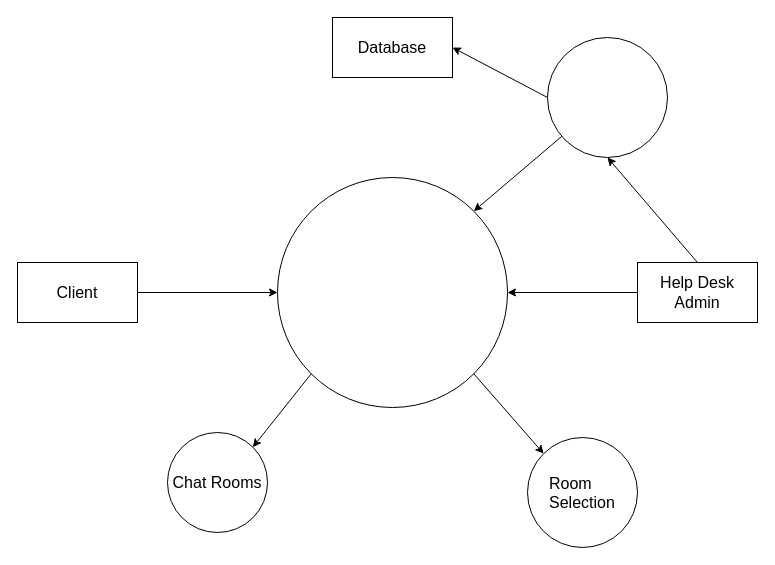
The diagram is 775 pixels wide and 565 high, and some of its shapes have lost their labels. The shapes that lost their labels are listed below. From the top down, each one's box as (x1, y1, x2, y2) in pixels, then its label:
(546, 36, 668, 158): Authentication
(276, 176, 508, 408): Help Desk Chat Application
